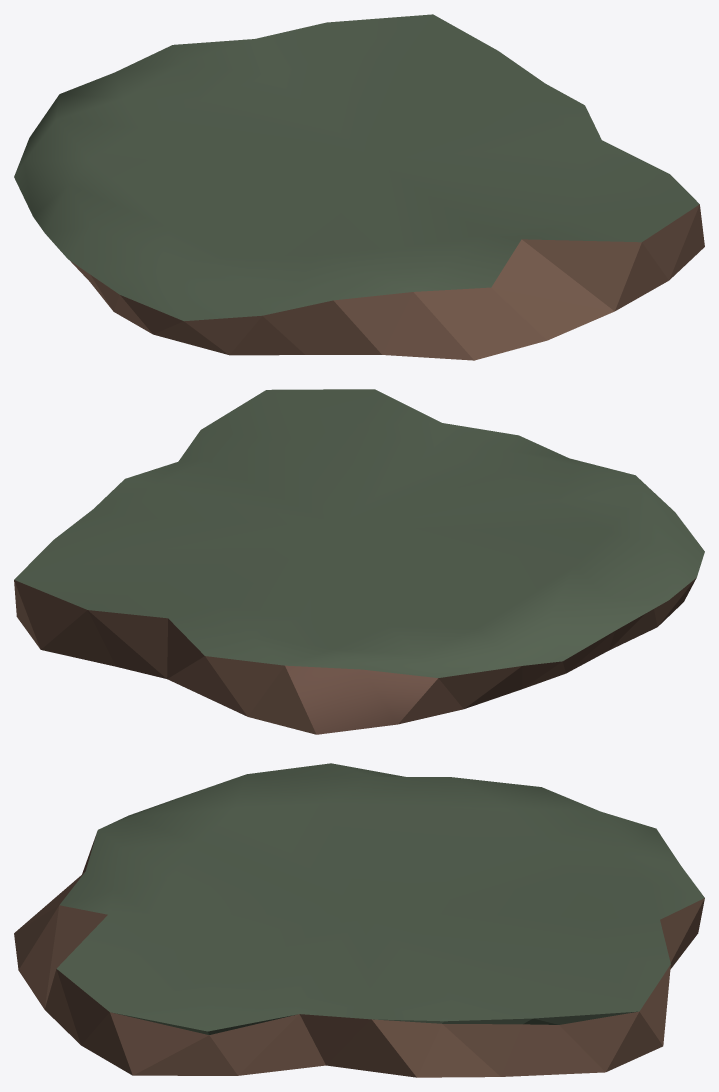
The model's file is ground.glb.
The picture shows the model from 3 angles, top to bottom: view 1: azimuth 30°, elevation 25°; view 2: azimuth 150°, elevation 25°; view 3: azimuth 270°, elevation 25°; orthographic projection. The views are drawn at different scales.
Visible parts, largest first — view 1: Ground; view 2: Ground; view 3: Ground.
Part boxes in pixels (<box>): Ground: <box>14,14,704,360</box>; Ground: <box>14,389,704,734</box>; Ground: <box>14,763,704,1077</box>.
Bounding box in the file's own units: 27.22 × 3.08 × 29.78.
1 material, 1 textured.
